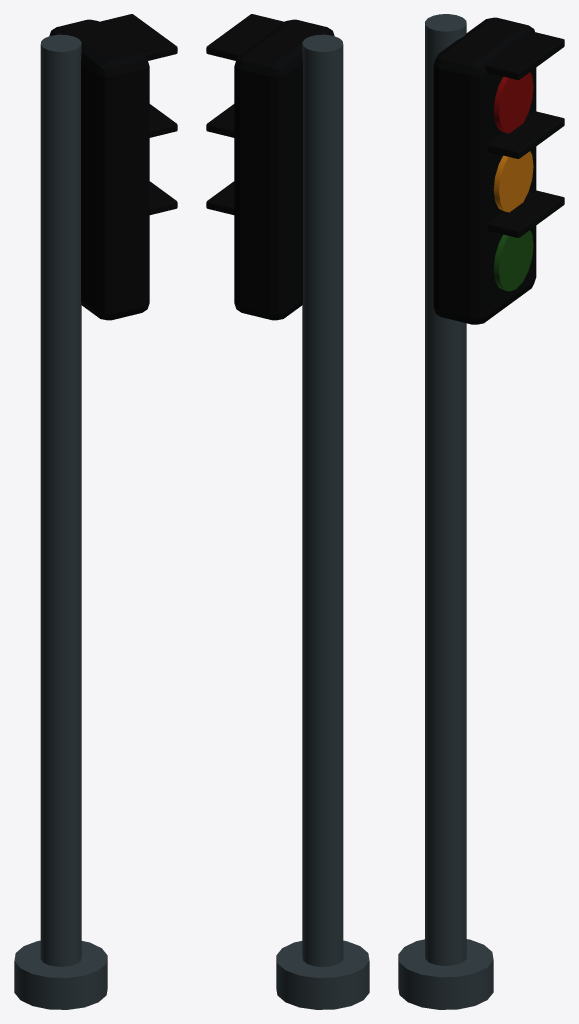
File: TrafficLight.fbx
3 renders of one model, left to right at view 1: azimuth 30°, elevation 25°; view 2: azimuth 150°, elevation 25°; view 3: azimuth 330°, elevation 25°, orthographic. The views are drawn at different scales.
Parts seen in each view (by area): view 1: TrafficLight; view 2: TrafficLight; view 3: TrafficLight.
Part boxes in pixels (bbox=[...]): TrafficLight: bbox=[14, 14, 177, 1009]; TrafficLight: bbox=[206, 14, 369, 1009]; TrafficLight: bbox=[398, 14, 564, 1009].
Bounding box in the file's own units: 53 × 40 × 355.
